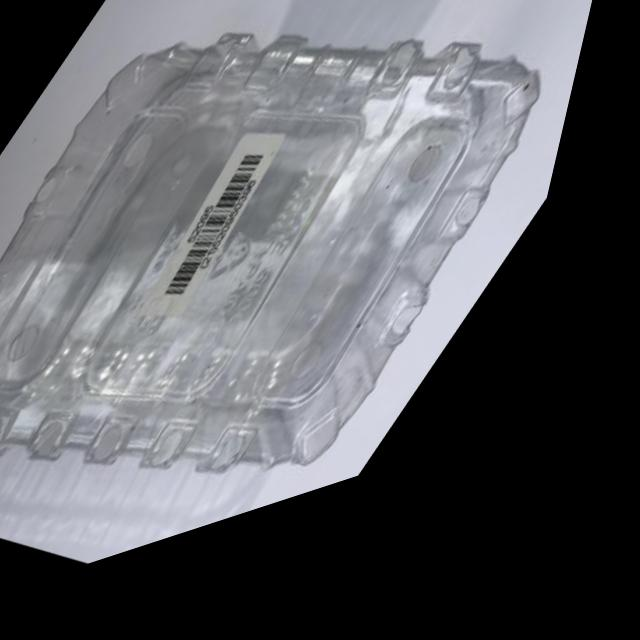plastic: (0, 0, 639, 640)
